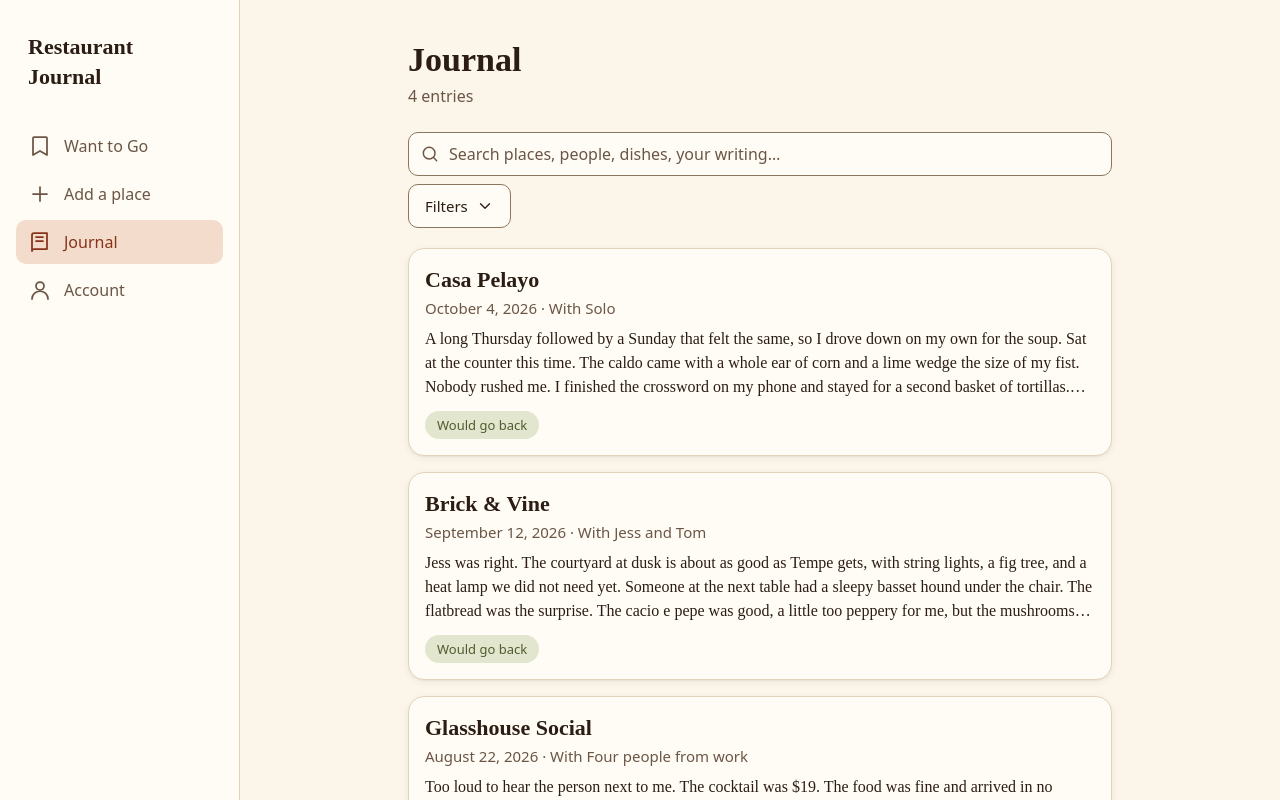
Test: Journal search and filters › searches the text of the writing
Expected: the text "4 entries" is shown, [408, 85, 473, 107]
Type "basset" into the search field named "Search your journal" at (760,154), box [408, 132, 1112, 176]
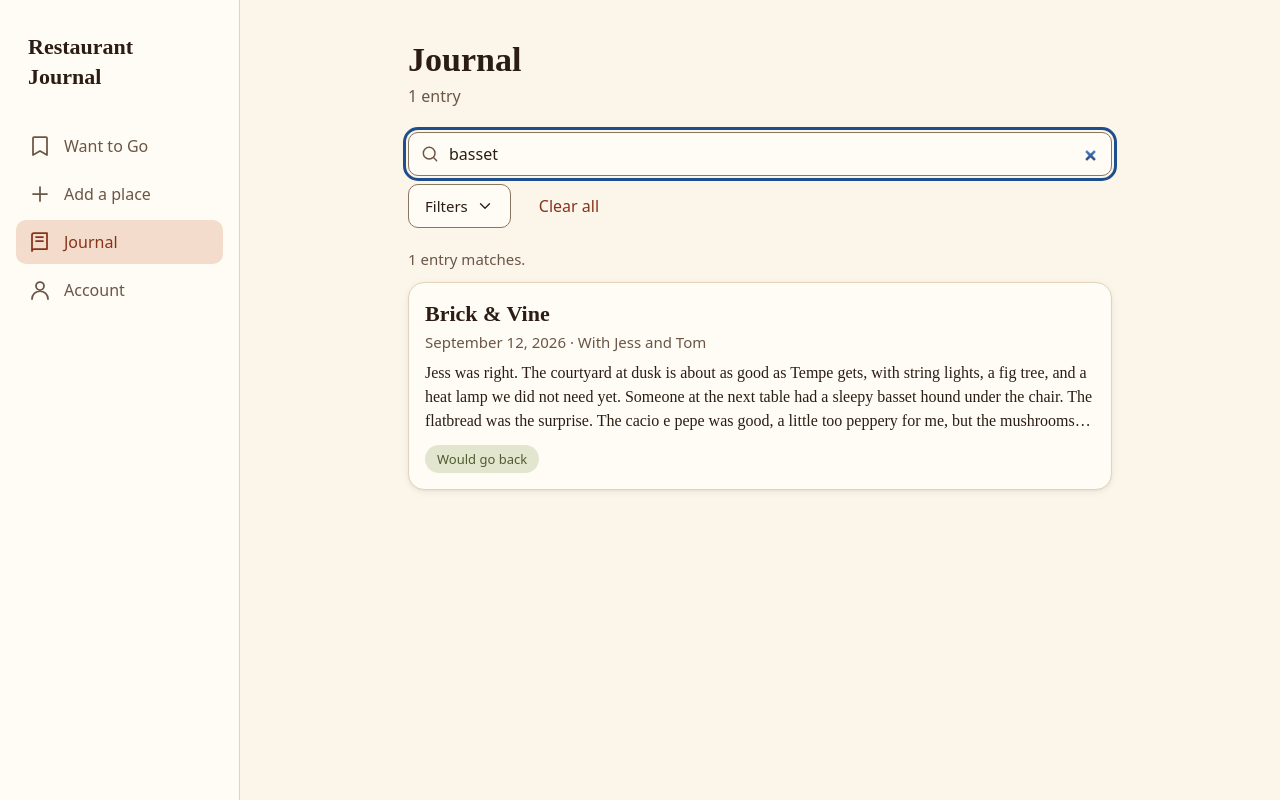
Expected: the text "1 entry matches." is shown, [408, 249, 525, 269]
